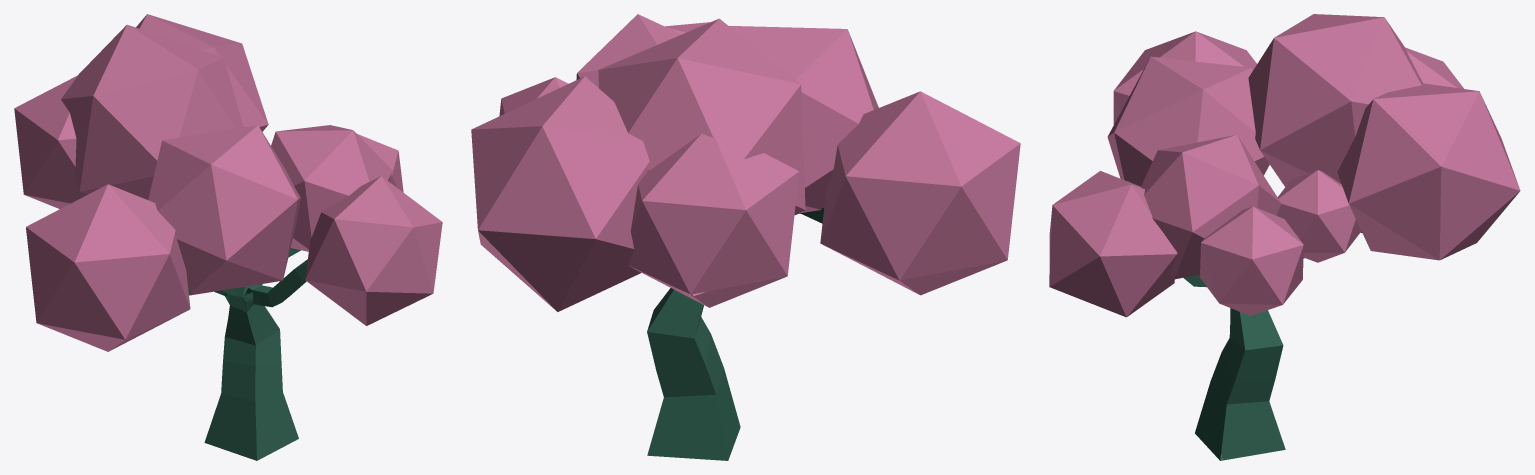
File: NormalTreeColor2_ZUPYF.fbx
3 views of the same model, side by side, from view 1: azimuth 30°, elevation 25°; view 2: azimuth 150°, elevation 25°; view 3: azimuth 270°, elevation 25° (orthographic). The views are drawn at different scales.
Visible parts, largest first — view 1: Cube.004; view 2: Cube.004; view 3: Cube.004.
Boxes of the visible parts, box(x1,y1,x2,y2) form: Cube.004: box(14, 14, 442, 460); Cube.004: box(471, 14, 1020, 460); Cube.004: box(1049, 14, 1520, 460).
Bounding box in the file's own units: 691 × 693 × 644.
